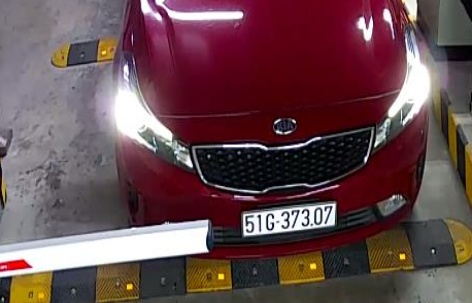plate: (231, 196, 343, 241)
